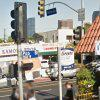Traffic light: (5, 4, 33, 50)
